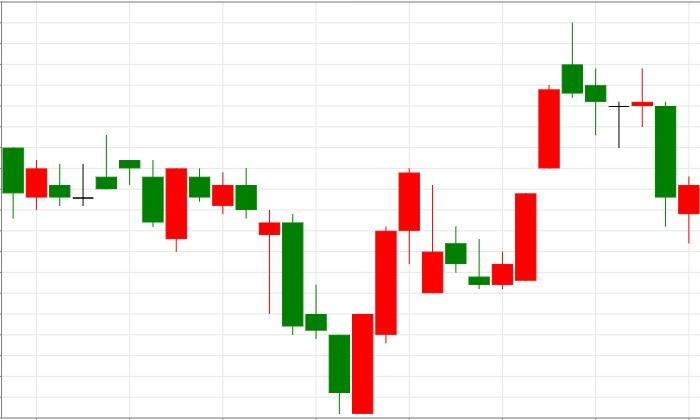bullish_engulfing_rise: (236, 166, 373, 414)
shooting_star_fall: (469, 23, 583, 289)
